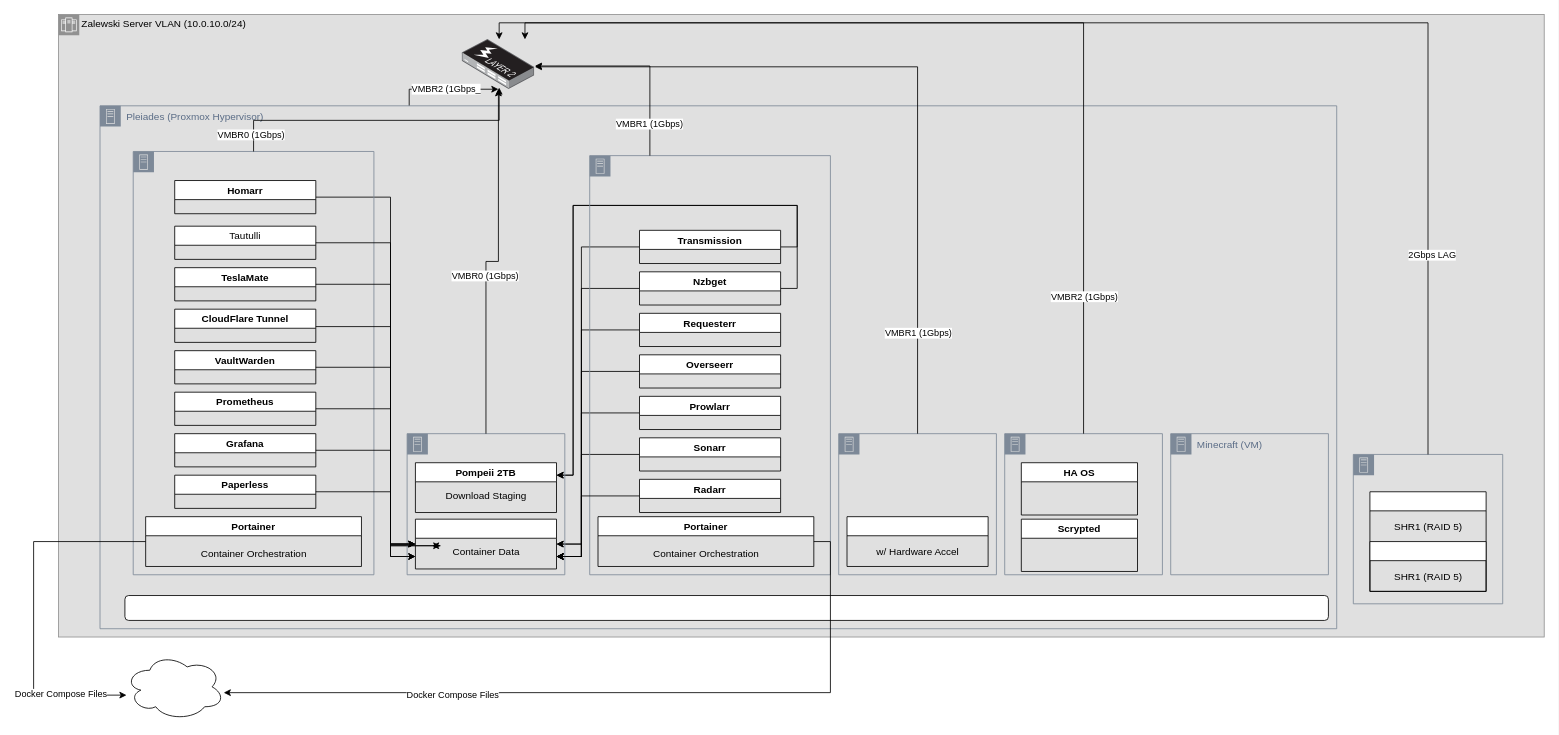
The diagram is 1559 pixels wide and 735 high, and some of its shapes have lost their labels. The box of each missing label's shape, as (x1, y1, x2, y2) in pixels:
Backups 192GB: (1369, 541, 1486, 591)
Bad Robot (LXC Container): (838, 433, 996, 575)
Black Widow (VM - Docker Movie Services ): (589, 155, 830, 575)
Github: (124, 653, 225, 720)
Hawkeye (VM - Docker Core Services): (132, 151, 374, 575)
Home Assistant (VM): (1004, 433, 1162, 575)
Media 38TB: (1369, 491, 1486, 591)
Plex: (846, 516, 988, 566)
Proxmox Local Storage 2TB (ZFS Mirror) Proxmox OS, VM/LXC disks: (124, 595, 1328, 620)
Route66 2TB (ZFS Mirror): (415, 518, 557, 569)
Scarif (TrueNas VM): (406, 433, 565, 575)
Synapse (Synology NAS): (1352, 454, 1503, 604)
